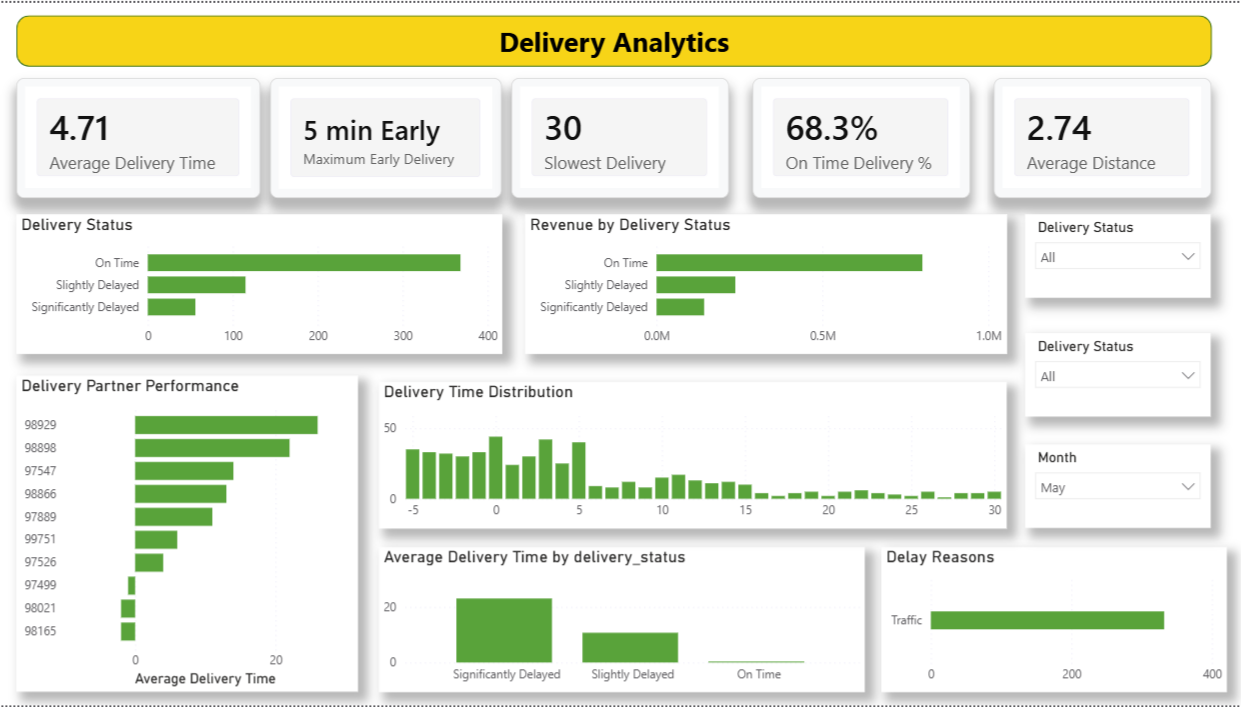

The page's visual inventory and layout, read from the dashboard file:
{"tool":"powerbi","page":{"name":"Delivery Analytics","canvas":[1280,720],"ordinal":2},"visuals":[{"type":"shape","title":"Blinkit Business Analytics Dashboard","box":[20,12.5,1226.2,52.5],"z":0},{"type":"cardVisual","fields":{"Data":["Measures (2).Average Delivery Time"]},"box":[20,77.1,250,122.9],"z":1000},{"type":"cardVisual","fields":{"Data":["Delivery.Maximum Early Delivery Text"]},"box":[281.3,77,237.2,123.5],"z":2000},{"type":"cardVisual","fields":{"Data":["Delivery.Slowest Delivery"]},"box":[528.6,77.1,222.9,122.9],"z":3000},{"type":"cardVisual","fields":{"Data":["Delivery.On Time Delivery %"]},"box":[775.7,77.1,222.9,122.9],"z":4000},{"type":"cardVisual","fields":{"Data":["Delivery.Average Distance"]},"box":[1022.9,77.1,222.9,122.9],"z":5000},{"type":"clusteredBarChart","title":"Revenue by Delivery Status","fields":{"Category":["Orders.delivery_status"],"Y":["Measures (2).Total Revenue"]},"box":[542.9,217.1,494.3,142.9],"z":6000},{"type":"clusteredBarChart","title":"Delivery Status","fields":{"Category":["Orders.delivery_status"],"Y":["Measures (2).Total Orders"]},"box":[20,217.1,498.6,142.9],"z":7000},{"type":"clusteredColumnChart","fields":{"Category":["Delivery.delivery_status"],"Y":["Measures (2).Average Delivery Time"]},"box":[392.9,557.1,498.6,148.6],"z":8000},{"type":"clusteredBarChart","title":"Delay Reasons","fields":{"Category":["Delivery.reasons_if_delayed"],"Y":["Measures (2).Total Orders"]},"box":[907.1,557.1,354.3,148.6],"z":9000},{"type":"clusteredColumnChart","title":"Delivery Time Distribution","fields":{"Y":["Measures (2).Total Orders"],"Category":["Delivery.delivery_time_minutes"]},"box":[392.9,388.6,644.3,150],"z":10000},{"type":"clusteredBarChart","title":"Delivery Partner Performance","fields":{"Category":["Delivery.delivery_partner_id"],"Y":["Measures (2).Average Delivery Time"]},"box":[20,381.4,350,324.3],"z":11000},{"type":"slicer","fields":{"Values":["Delivery.delivery_status"]},"box":[1055.7,217.1,190,85.7],"z":12000},{"type":"slicer","fields":{"Values":["Delivery.reasons_if_delayed"]},"box":[1055.7,338.6,190,85.7],"z":13000},{"type":"slicer","fields":{"Values":["Date.Month"]},"box":[1055.7,452.9,190,85.7],"z":14000}]}

Visuals, with their boxes in screenshot pixels (x1, y1, x2, y2), scaled from the page's 1280x720 canvas onto the 1241x707 screenshot:
"Blinkit Business Analytics Dashboard" shape: (x1=19, y1=12, x2=1208, y2=64)
cardVisual - Measures (2).Average Delivery Time: (x1=19, y1=76, x2=262, y2=196)
cardVisual - Delivery.Maximum Early Delivery Text: (x1=273, y1=76, x2=503, y2=197)
cardVisual - Delivery.Slowest Delivery: (x1=512, y1=76, x2=729, y2=196)
cardVisual - Delivery.On Time Delivery %: (x1=752, y1=76, x2=968, y2=196)
cardVisual - Delivery.Average Distance: (x1=992, y1=76, x2=1208, y2=196)
"Revenue by Delivery Status" clusteredBarChart: (x1=526, y1=213, x2=1006, y2=354)
"Delivery Status" clusteredBarChart: (x1=19, y1=213, x2=503, y2=354)
clusteredColumnChart - Delivery.delivery_status x Measures (2).Average Delivery Time: (x1=381, y1=547, x2=864, y2=693)
"Delay Reasons" clusteredBarChart: (x1=879, y1=547, x2=1223, y2=693)
"Delivery Time Distribution" clusteredColumnChart: (x1=381, y1=382, x2=1006, y2=529)
"Delivery Partner Performance" clusteredBarChart: (x1=19, y1=375, x2=359, y2=693)
slicer - Delivery.delivery_status: (x1=1024, y1=213, x2=1208, y2=297)
slicer - Delivery.reasons_if_delayed: (x1=1024, y1=332, x2=1208, y2=417)
slicer - Date.Month: (x1=1024, y1=445, x2=1208, y2=529)
